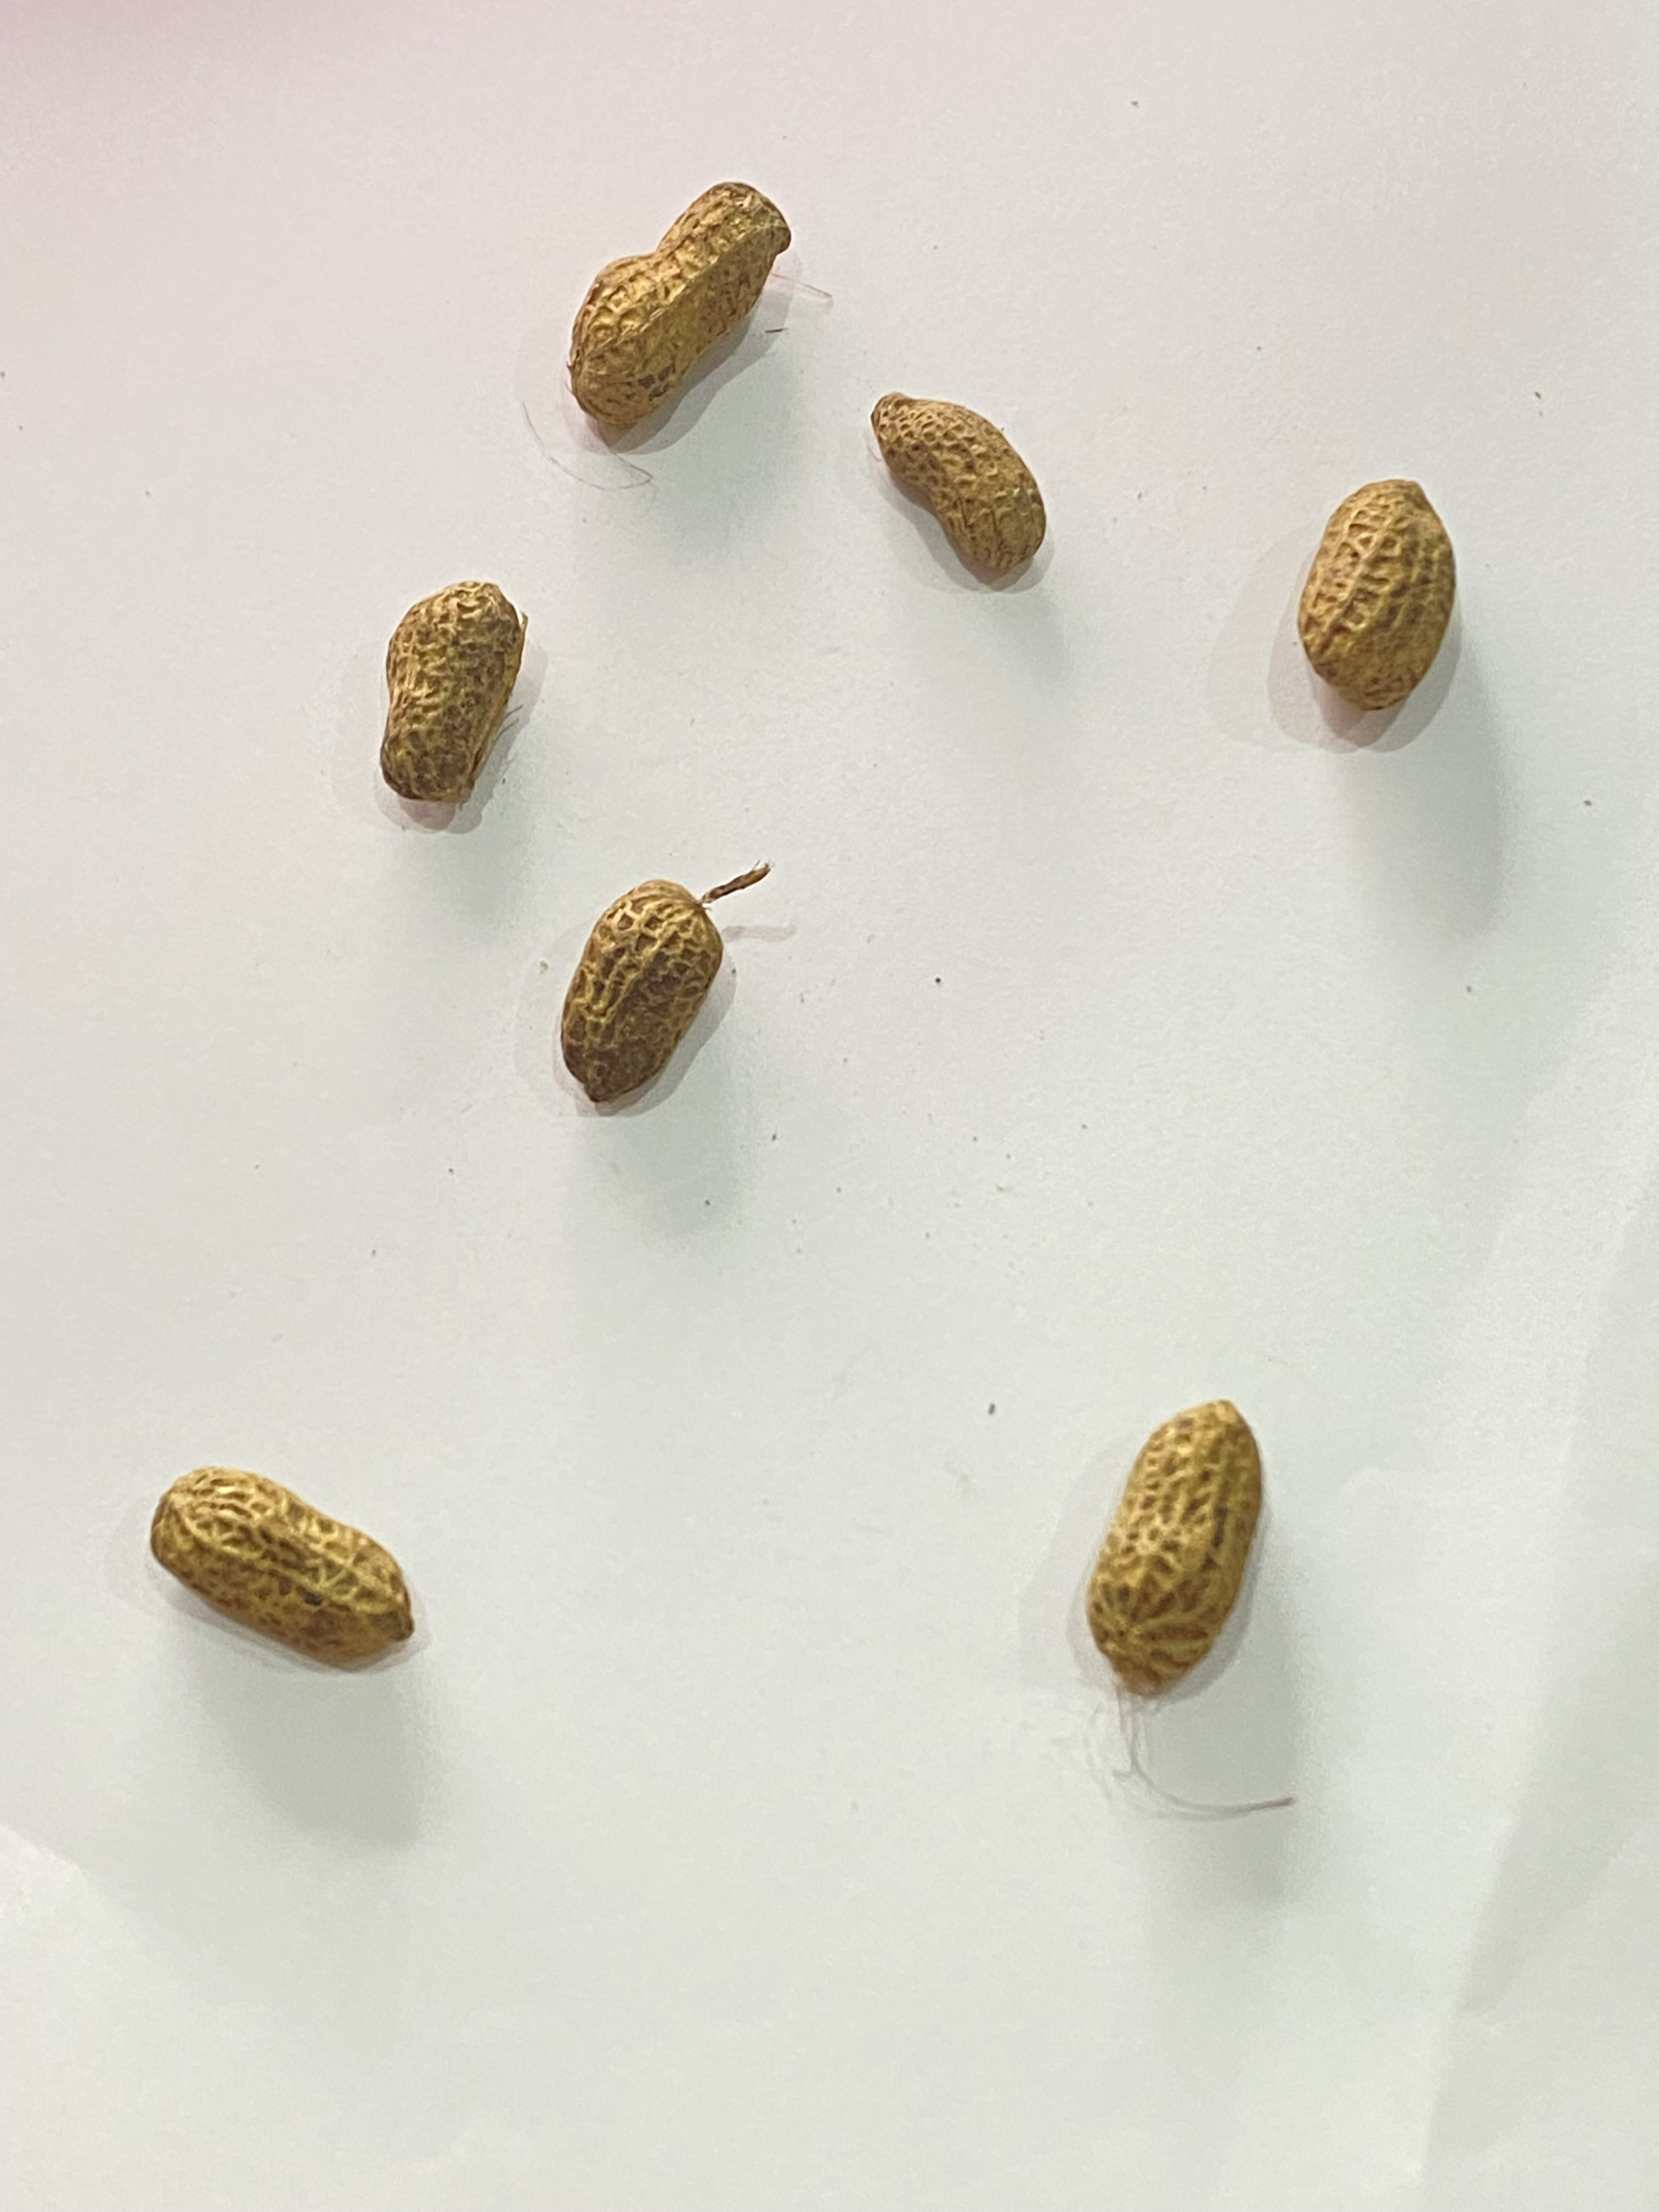kacang1: (530, 876, 866, 1174), (1270, 420, 1506, 735)
kacang2: (505, 157, 810, 441), (98, 1451, 444, 1684), (1061, 1374, 1300, 1710), (349, 575, 554, 815), (828, 383, 1061, 585)
